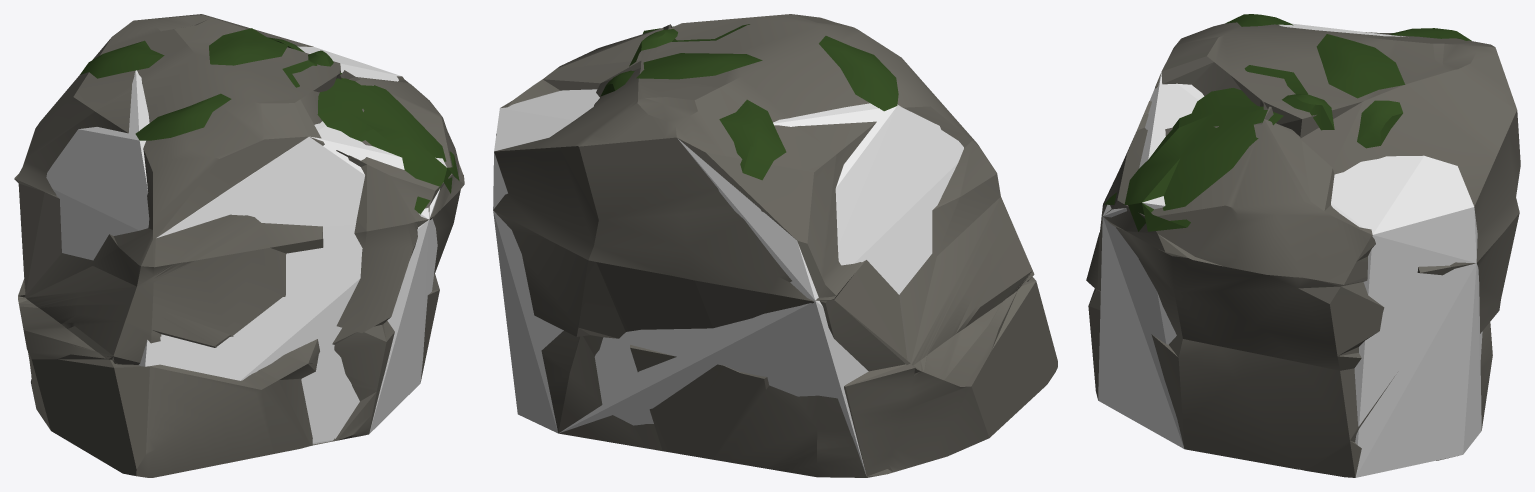
Rendered from Rock_M.fbx.
The picture shows the model from 3 angles, left to right: view 1: azimuth 30°, elevation 25°; view 2: azimuth 150°, elevation 25°; view 3: azimuth 270°, elevation 25°; orthographic projection. The views are drawn at different scales.
Visible parts, largest first — view 1: Rock_M_Body, COL_Rock_M; view 2: Rock_M_Body, COL_Rock_M; view 3: Rock_M_Body, COL_Rock_M.
Part boxes in pixels (bbox=[...]): Rock_M_Body: bbox=[14, 14, 464, 477]; COL_Rock_M: bbox=[46, 46, 446, 444]; Rock_M_Body: bbox=[493, 14, 1057, 477]; COL_Rock_M: bbox=[493, 89, 963, 475]; Rock_M_Body: bbox=[1086, 14, 1520, 477]; COL_Rock_M: bbox=[1098, 23, 1482, 477].
Size of what is drawn, in the model's own units: 1.2 by 0.8622 by 1.
